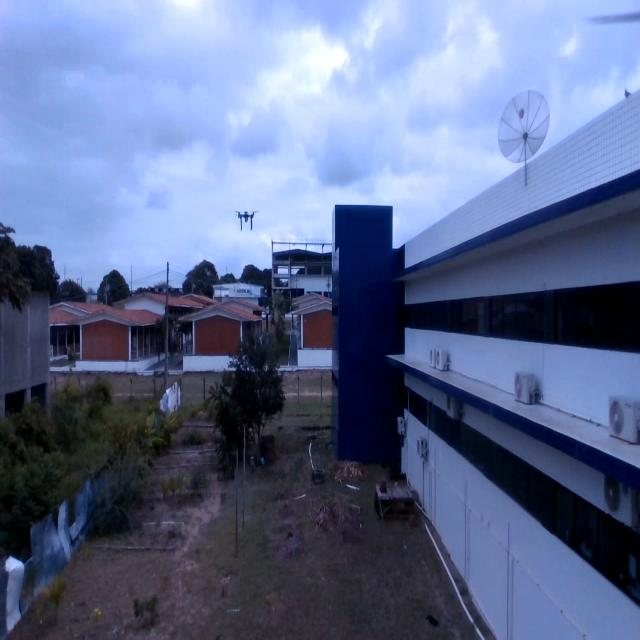-uav-: (233, 203, 257, 234)
